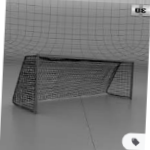goals: (9, 52, 134, 118)
